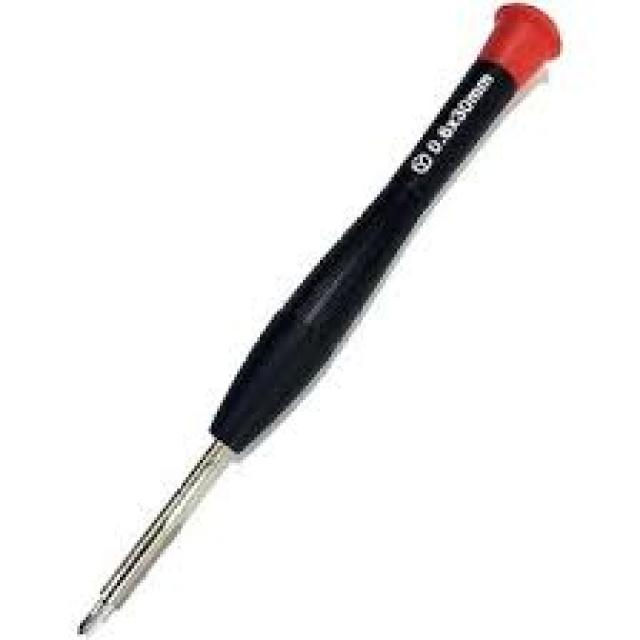Screwdriver: (79, 4, 560, 632)
